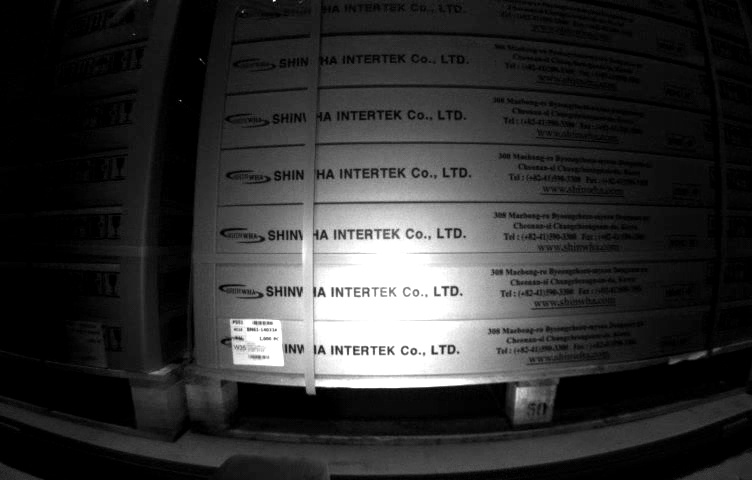True Barcode: (228, 317, 286, 368)
